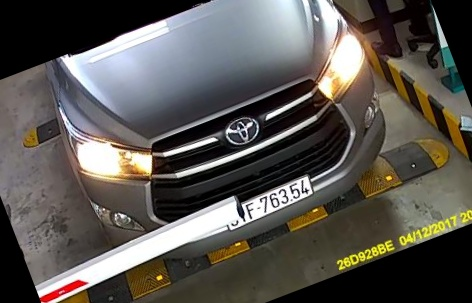plate: (216, 175, 326, 236)
